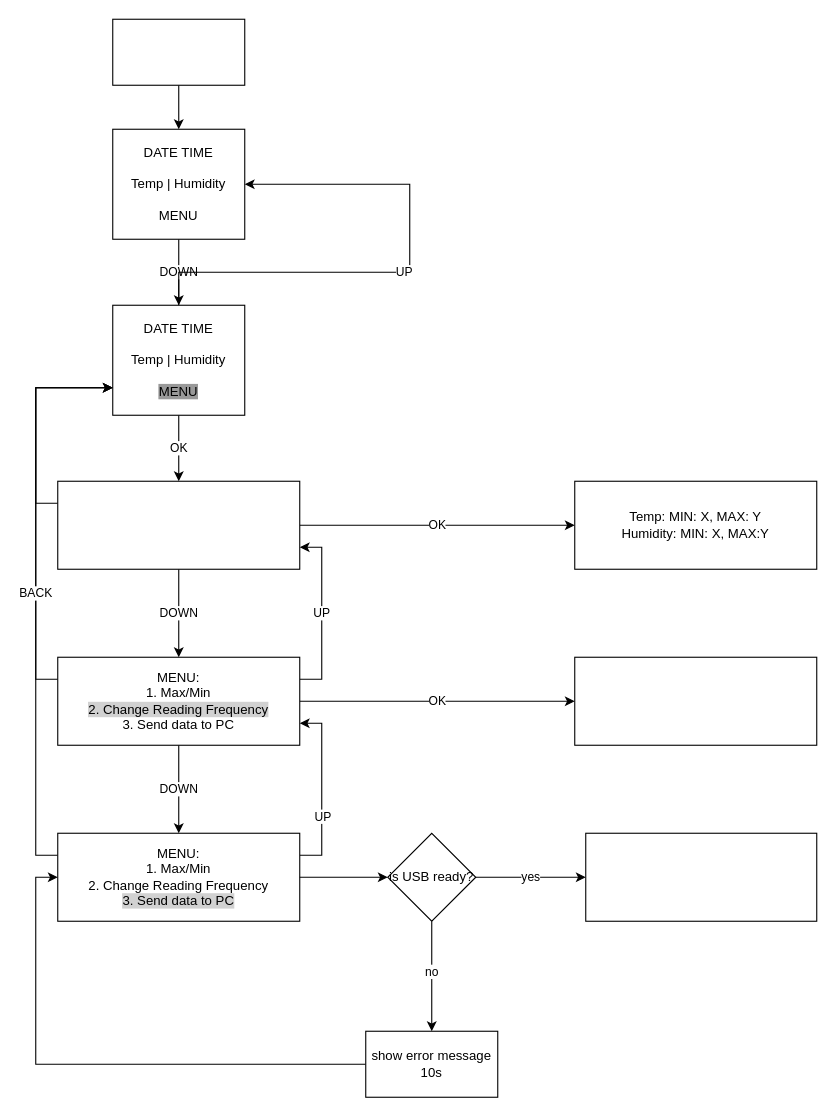
This 836x1117 diagram has some shape labels left out. The centre of each missing label's shape, as x and y in pixels:
"MENU: 1. Max/Min day 2. Change Reading Frequency 3. Send data to PC" belongs at (x=178, y=524).
"MENU: 1. REAL TIME 2. 5 MINS AVG 3. 1 HR AVG" belongs at (x=695, y=700).
"Send data" belongs at (x=701, y=876).
"Welcome (10s)" belongs at (x=178, y=51).
